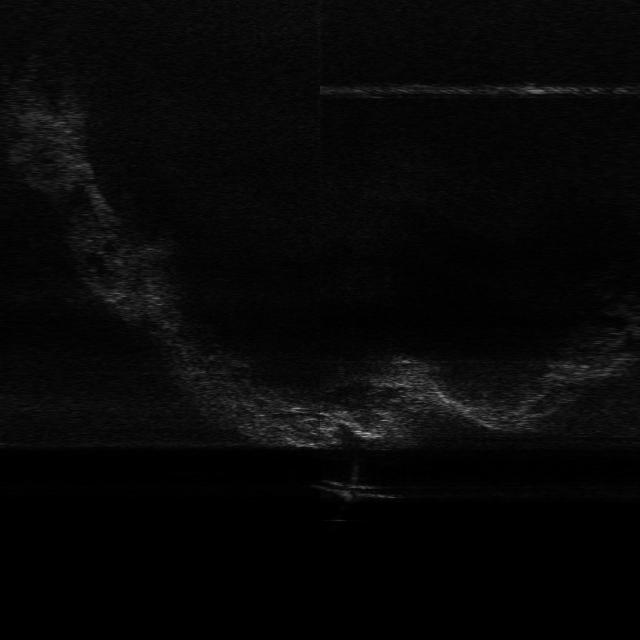plane: (308, 478, 399, 504)
